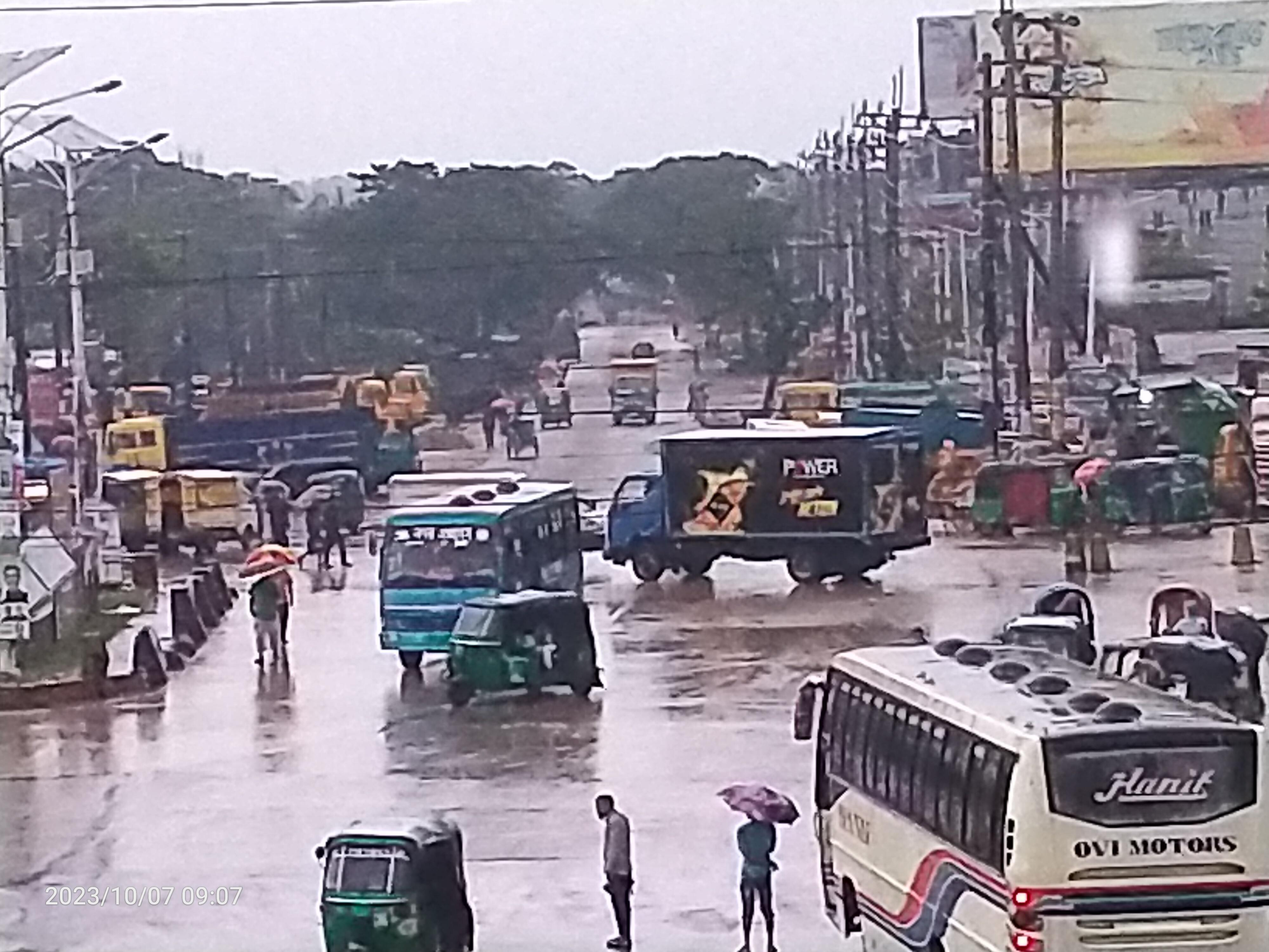Bus: (754, 625, 1269, 952), (347, 459, 603, 696)
Car: (98, 452, 272, 556)
Truck: (577, 427, 943, 612), (95, 390, 385, 479), (757, 353, 996, 421), (594, 352, 671, 429)
